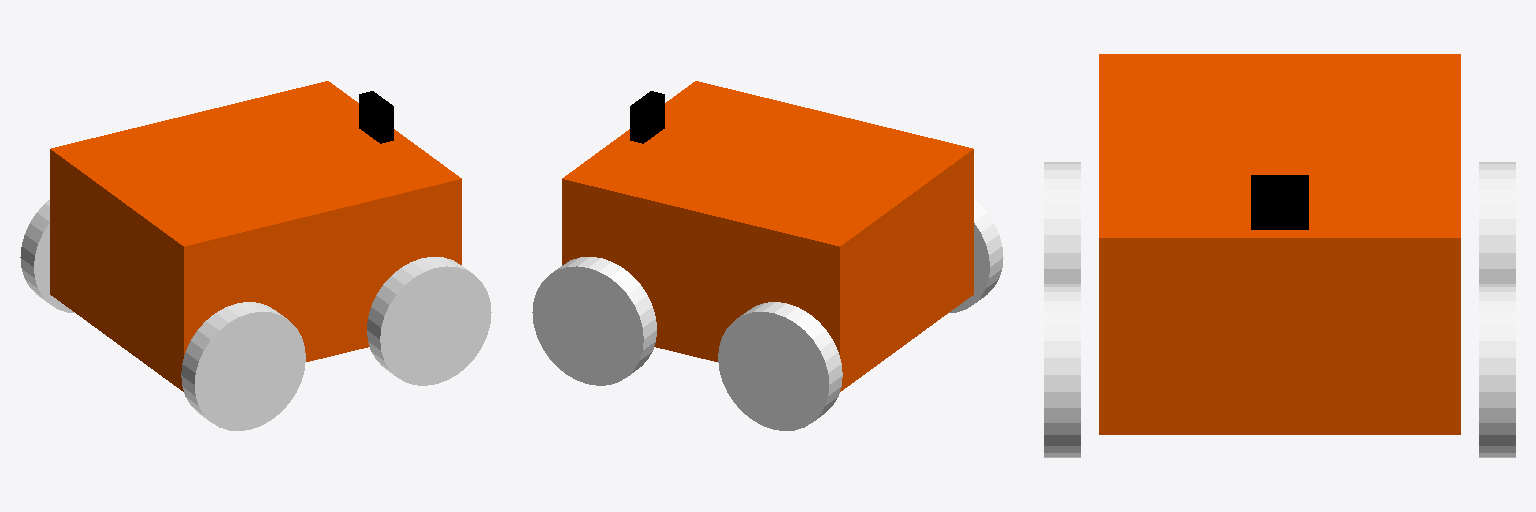
The robot description file, URDF, robot "abot":
<?xml version="1.0"?>
<robot name="abot"> 
<!--********************************xxxxxxxxx********************************-->
<!--********************************base_link********************************-->
	<link name="base_link">
		<visual>
		<origin xyz="0 0 0" rpy="0 0 0"/>
		<geometry>
			<box size="0.30 0.25 0.15"/>
		</geometry>
			<material name="yellow">
				<color rgba="1 0.4 0 0.5"/>
			</material>
		</visual>
	</link>
<!--********************************left_front_link********************************-->
	<link name="left_front_link">
		<visual>
			<origin xyz="0 0 0" rpy="1.5707 0 0"/>
			<geometry>
				<cylinder radius="0.06" length="0.025"/>
			</geometry>
			<material name="white">
				<color rgba="1 1 1 0.9"/>
			</material>
		</visual>
	</link>
	<joint name="left_front_joint" type="continuous">
		<origin xyz="0.10 0.15 -0.05" rpy="0 0 0"/>
		<parent link="base_link"/>
		<child link="left_front_link"/>
		<axis xyz="0 1 0"/>
	</joint>
<!--********************************left_back_link********************************-->
	<link name="left_back_link">
		<visual>
			<origin xyz="0 0 0" rpy="1.5707 0 0"/>
			<geometry>
				<cylinder radius="0.06" length="0.025"/>
			</geometry>
			<material name="white">
				<color rgba="1 1 1 0.9"/>
			</material>
		</visual>
	</link>
	<joint name="left_back_link" type="continuous">
		<origin xyz="-0.10 0.15 -0.05" rpy="0 0 0"/>
		<parent link="base_link"/>
		<child link="left_back_link"/>
		<axis xyz="0 1 0"/>
	</joint>
<!--********************************right_front_link********************************-->
	<link name="right_front_link">
		<visual>
			<origin xyz="0 0 0" rpy="1.5707 0 0"/>
			<geometry>
				<cylinder radius="0.06" length="0.025"/>
			</geometry>
			<material name="white">
				<color rgba="1 1 1 0.9"/>
			</material>
		</visual>
	</link>
	<joint name="right_front_link" type="continuous">
		<origin xyz="0.10 -0.15 -0.05" rpy="0 0 0"/>
		<parent link="base_link"/>
		<child link="right_front_link"/>
		<axis xyz="0 1 0"/>
	</joint>
<!--********************************right_back_link********************************-->
	<link name="right_back_link">
		<visual>
			<origin xyz="0 0 0" rpy="1.5707 0 0"/>
			<geometry>
				<cylinder radius="0.06" length="0.025"/>
			</geometry>
			<material name="white">
				<color rgba="1 1 1 0.9"/>
			</material>
		</visual>
	</link>
	<joint name="right_back_link" type="continuous">
		<origin xyz="-0.10 -0.15 -0.05" rpy="0 0 0"/>
		<parent link="base_link"/>
		<child link="right_back_link"/>
		<axis xyz="0 1 0"/>
	</joint>
<!--********************************right_back_link********************************-->
	<link name="camera_link">
		<visual>
			<origin xyz="0 0 0" rpy="0 0 1.5707"/>
			<geometry>
				<box size="0.04 0.015 0.04"/>
			</geometry>
			<material name="black">
				<color rgba="0 0 0 0.9"/>
			</material>
		</visual>
	</link>
	<joint name="camera_joint" type="fixed">
		<origin xyz="0.13 0 0.09" rpy="0 0 0"/>
		<parent link="base_link"/>
		<child link="camera_link"/>
	</joint>

</robot>

--- Render facts (derived) ---
3 views of the same robot in one strip: view 1: azimuth 30°, elevation 25°; view 2: azimuth 150°, elevation 25°; view 3: azimuth 270°, elevation 25° (orthographic).
Robot: abot — 6 links, 5 joints (4 continuous, 1 fixed); root link base_link; default pose: all joints at 0.
Links seen in each view (by area): view 1: base_link, right_back_link, right_front_link, left_back_link, camera_link; view 2: base_link, left_back_link, left_front_link, right_back_link, camera_link; view 3: base_link, left_front_link, right_front_link, left_back_link, right_back_link, camera_link.
Link boxes in pixels (x1,y1,x2,y2): base_link: [50, 81, 461, 391]; right_back_link: [181, 302, 305, 430]; right_front_link: [367, 257, 491, 385]; left_back_link: [20, 200, 74, 312]; camera_link: [359, 91, 393, 143]; base_link: [562, 81, 973, 391]; left_back_link: [718, 302, 842, 430]; left_front_link: [532, 257, 656, 385]; right_back_link: [949, 200, 1003, 312]; camera_link: [630, 91, 664, 143]; base_link: [1099, 54, 1460, 434]; left_front_link: [1479, 284, 1515, 457]; right_front_link: [1044, 284, 1080, 457]; left_back_link: [1479, 162, 1515, 283]; right_back_link: [1044, 162, 1080, 283]; camera_link: [1251, 175, 1308, 229].
Bounding box of the posed robot: 0.32 × 0.325 × 0.22 m (x, y, z).
Geometry: primitives only (box / cylinder / sphere), no mesh files.